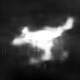plane: (10, 15, 77, 66)
